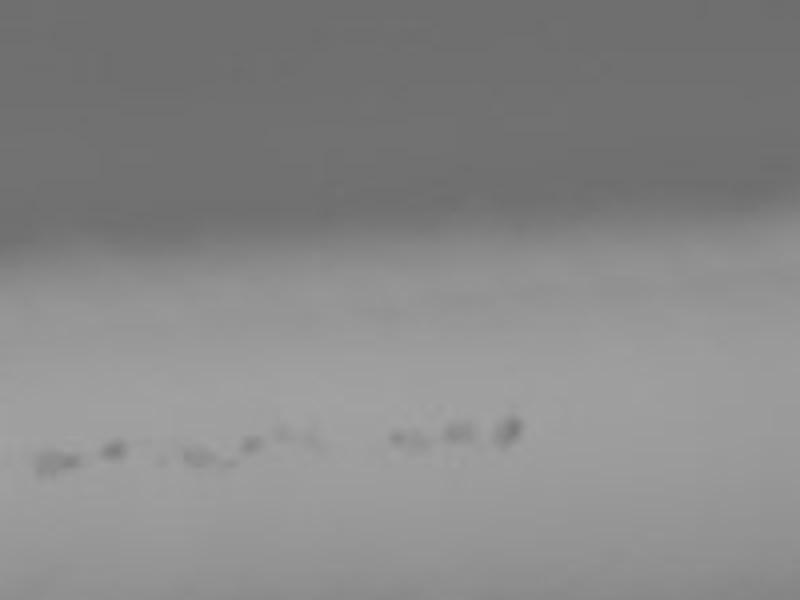defect: (442, 412, 482, 450), (388, 426, 429, 461), (38, 450, 81, 483), (496, 410, 523, 455), (303, 429, 332, 462), (185, 443, 215, 471), (96, 440, 129, 465), (237, 433, 266, 456), (270, 427, 294, 447), (218, 456, 242, 473)
